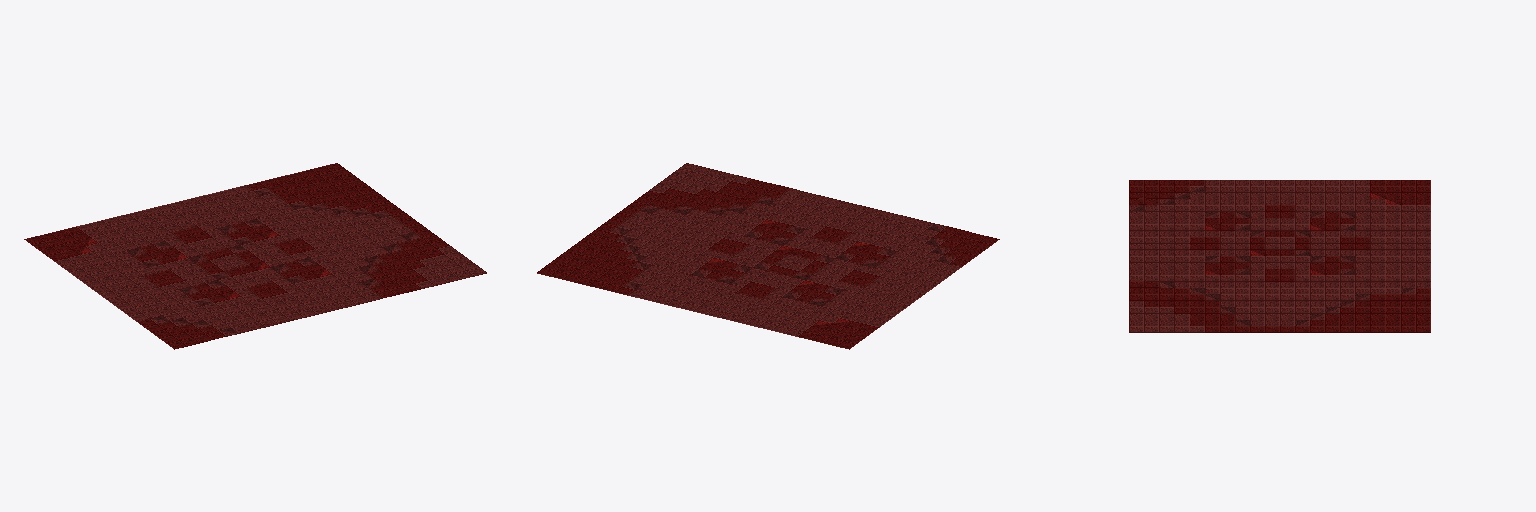
3 views of the same model, side by side, from view 1: azimuth 30°, elevation 25°; view 2: azimuth 150°, elevation 25°; view 3: azimuth 270°, elevation 25° (orthographic).
Parts seen in each view (by area): view 1: FloorSide_9; view 2: FloorSide_9; view 3: FloorSide_9.
Boxes of the visible parts, box(x1,y1,x2,y2) form: FloorSide_9: box(24, 163, 486, 349); FloorSide_9: box(537, 163, 999, 349); FloorSide_9: box(1129, 180, 1430, 332).
Size of the model in its own units: 24 by 0.0372 by 20.
Materials: 6 (6 with a texture image).